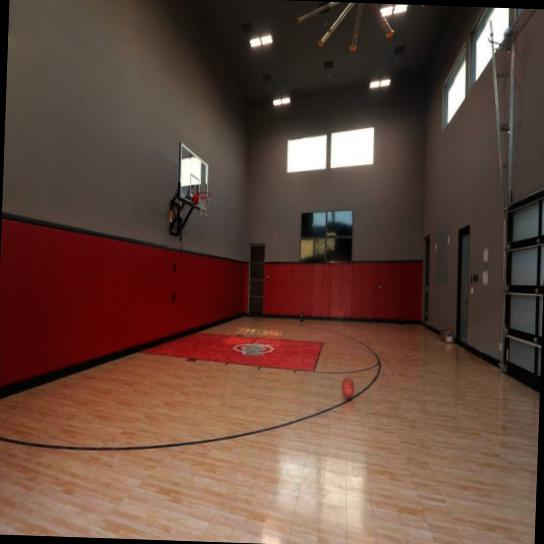basketball-hoop: (196, 189, 212, 217)
